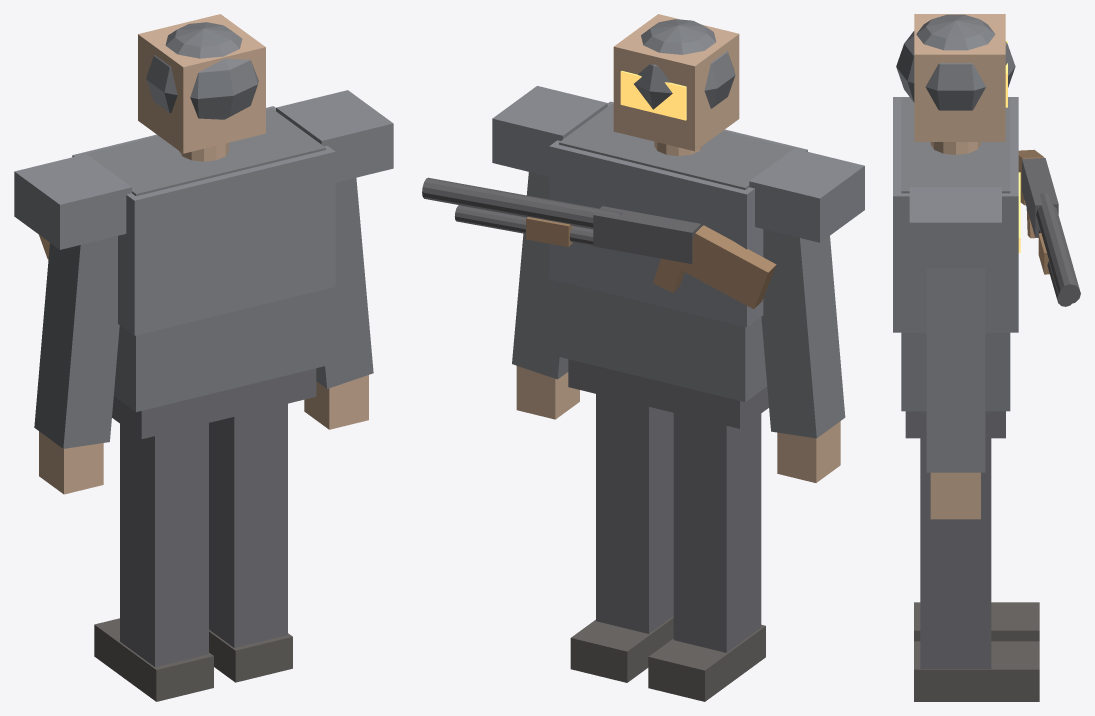
The model's file is guard_enforcer.glb.
3 views of the same model, side by side, from view 1: azimuth 30°, elevation 25°; view 2: azimuth 150°, elevation 25°; view 3: azimuth 270°, elevation 25° (orthographic). The views are drawn at different scales.
Visible parts, largest first — view 1: guard_enforcer_vest, guard_enforcer_torso, guard_enforcer_leg_L, guard_enforcer_leg_R, guard_enforcer_arm_L, guard_enforcer_head, guard_enforcer_pad_L, guard_enforcer_arm_R, guard_enforcer_helmet, guard_enforcer_pad_R, guard_enforcer_pelvis, guard_enforcer_shoe_L (+3 smaller); view 2: guard_enforcer_torso, guard_enforcer_leg_L, guard_enforcer_vest, guard_enforcer_leg_R, guard_enforcer_arm_L, guard_enforcer_head, guard_enforcer_pad_L, guard_enforcer_pad_R, guard_enforcer_arm_R, guard_enforcer_pelvis, guard_enforcer_shoe_L, guard_enforcer_shoe_R (+10 smaller); view 3: guard_enforcer_leg_R, guard_enforcer_arm_R, guard_enforcer_torso, guard_enforcer_vest, guard_enforcer_pad_R, guard_enforcer_head, guard_enforcer_shoe_R, guard_enforcer_helmet, guard_enforcer_hand_R, enforcer_shotgun_barrel, guard_enforcer_shoe_L, enforcer_shotgun_receiver (+3 smaller).
Boxes of the visible parts, x1=… form: guard_enforcer_vest: x1=72, y1=106, x2=335, y2=335; guard_enforcer_torso: x1=82, y1=108, x2=325, y2=411; guard_enforcer_leg_L: x1=120, y1=423, x2=208, y2=667; guard_enforcer_leg_R: x1=209, y1=403, x2=287, y2=647; guard_enforcer_arm_L: x1=34, y1=236, x2=119, y2=448; guard_enforcer_head: x1=138, y1=14, x2=265, y2=153; guard_enforcer_pad_L: x1=14, y1=154, x2=131, y2=249; guard_enforcer_arm_R: x1=316, y1=178, x2=373, y2=388; guard_enforcer_helmet: x1=146, y1=22, x2=258, y2=119; guard_enforcer_pad_R: x1=276, y1=90, x2=393, y2=182; guard_enforcer_pelvis: x1=112, y1=368, x2=316, y2=439; guard_enforcer_shoe_L: x1=94, y1=618, x2=213, y2=701; guard_enforcer_torso: x1=559, y1=104, x2=797, y2=402; guard_enforcer_leg_L: x1=673, y1=413, x2=761, y2=652; guard_enforcer_vest: x1=549, y1=101, x2=807, y2=327; guard_enforcer_leg_R: x1=596, y1=394, x2=673, y2=633; guard_enforcer_arm_L: x1=761, y1=229, x2=845, y2=438; guard_enforcer_head: x1=613, y1=14, x2=739, y2=151; guard_enforcer_pad_L: x1=749, y1=148, x2=864, y2=242; guard_enforcer_pad_R: x1=492, y1=86, x2=607, y2=176; guard_enforcer_arm_R: x1=512, y1=172, x2=568, y2=379; guard_enforcer_pelvis: x1=568, y1=359, x2=768, y2=428; guard_enforcer_shoe_L: x1=648, y1=624, x2=765, y2=701; guard_enforcer_shoe_R: x1=570, y1=616, x2=673, y2=682; guard_enforcer_leg_R: x1=920, y1=438, x2=991, y2=668; guard_enforcer_arm_R: x1=926, y1=268, x2=985, y2=472; guard_enforcer_torso: x1=901, y1=97, x2=1010, y2=411; guard_enforcer_vest: x1=893, y1=97, x2=1018, y2=332; guard_enforcer_pad_R: x1=909, y1=187, x2=1001, y2=268; guard_enforcer_head: x1=914, y1=14, x2=1005, y2=141; guard_enforcer_shoe_R: x1=914, y1=641, x2=1039, y2=701; guard_enforcer_helmet: x1=896, y1=14, x2=1015, y2=110; guard_enforcer_hand_R: x1=930, y1=472, x2=980, y2=519; enforcer_shotgun_barrel: x1=1036, y1=193, x2=1080, y2=304; guard_enforcer_shoe_L: x1=914, y1=602, x2=1039, y2=641; enforcer_shotgun_receiver: x1=1022, y1=158, x2=1058, y2=237.
Bounding box in the file's own units: 1.09 × 1.81 × 0.4756.
